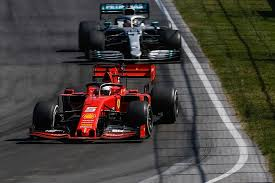FormulaOneCar: (22, 60, 183, 146), (75, 1, 190, 65)
